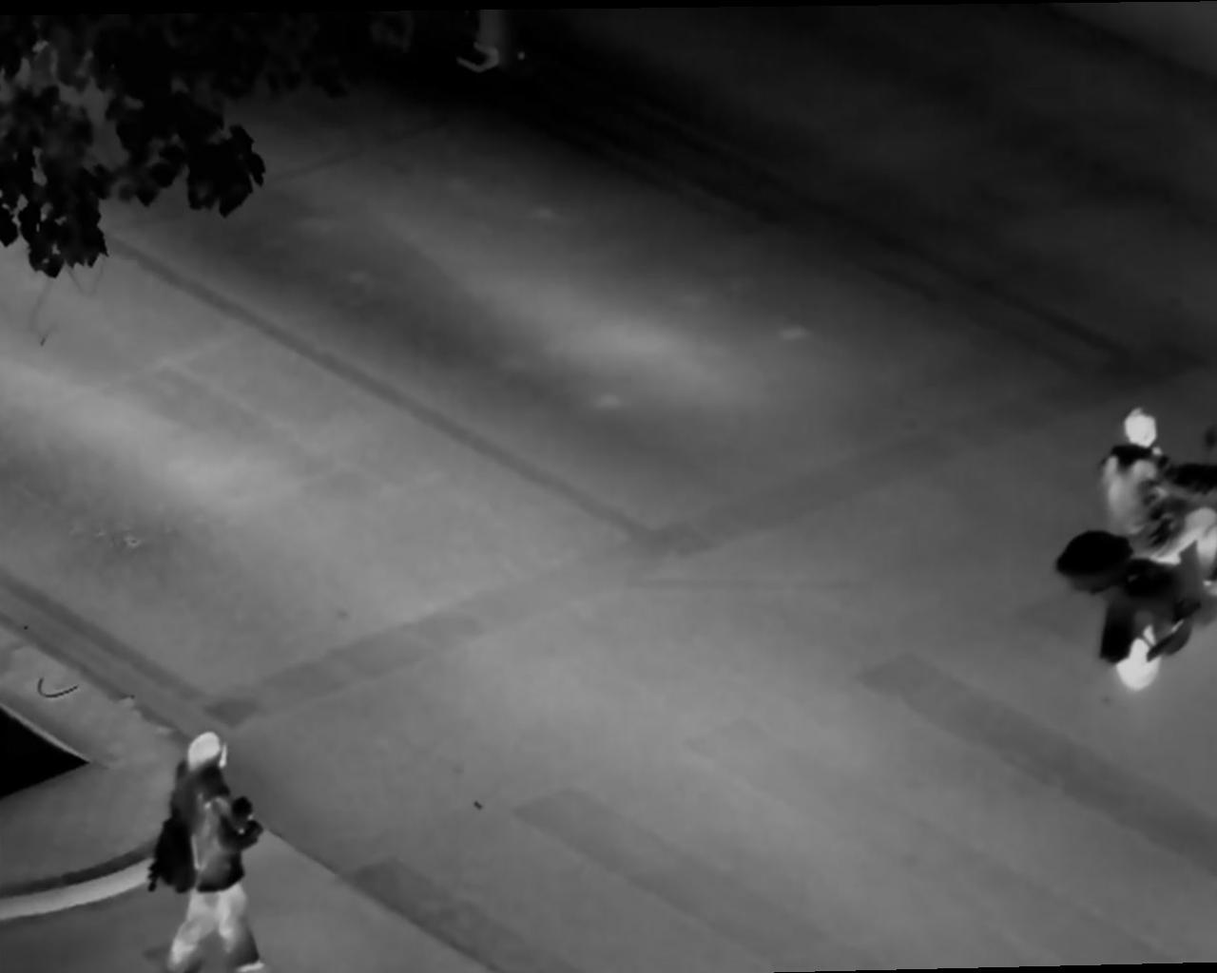person: (148, 732, 263, 973), (1097, 402, 1217, 621)
